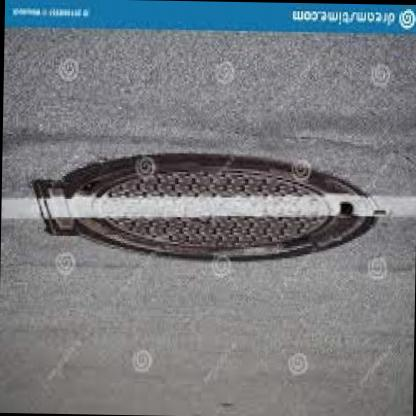manholes: (28, 128, 381, 286)
